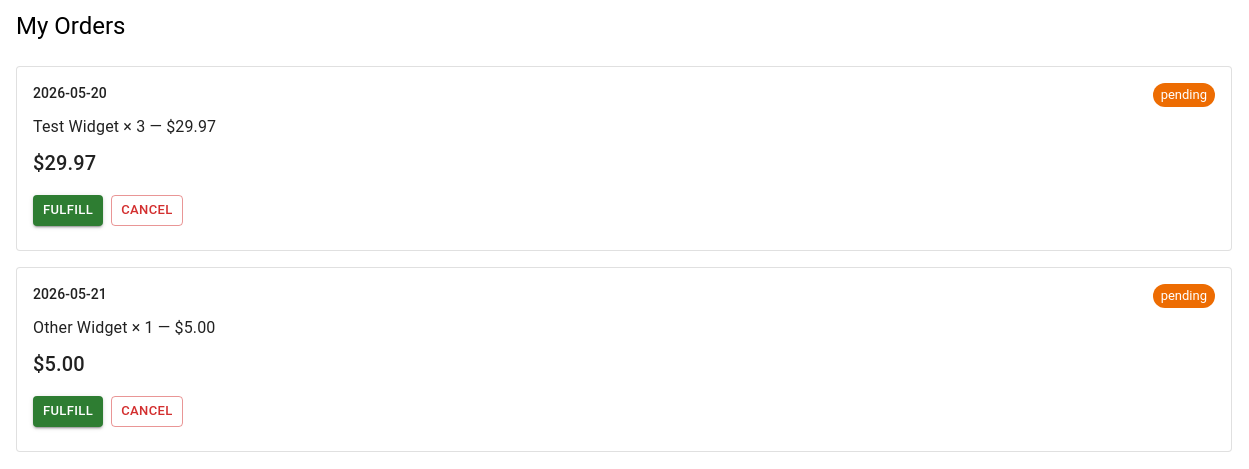
Test case: Seller OrdersView › leaves other orders unchanged when one order status updates
Expected: the text "Other Widget × 1 — $5.00" is shown, 33,318 -> 216,337
Click the button "Fulfill" below "Test Widget" at (68, 210), box 33,195 -> 103,226
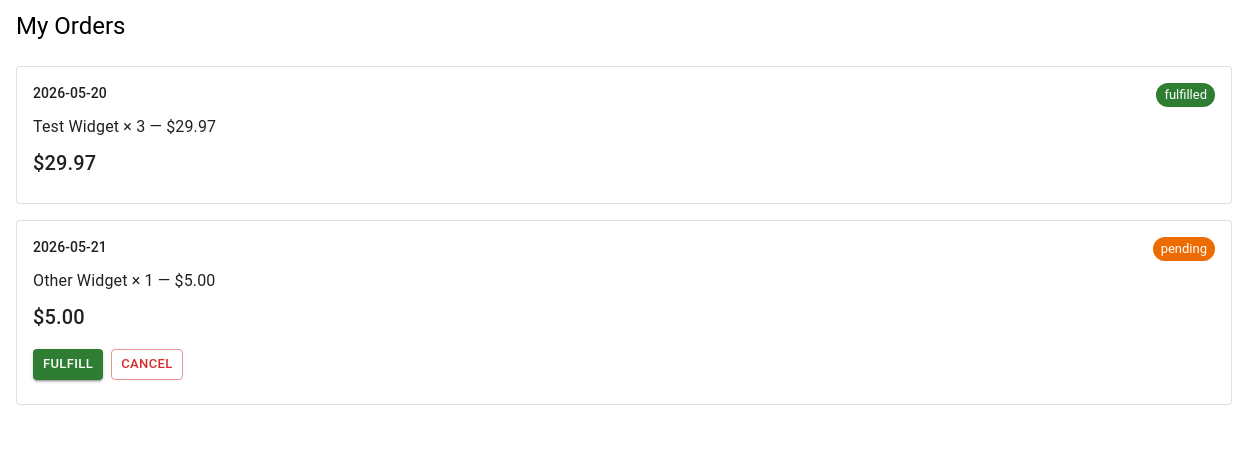
Expected: the text "pending" is shown, 1161,241 -> 1207,256
Now the text "fulfilled" is shown, box 1164,87 -> 1207,102
